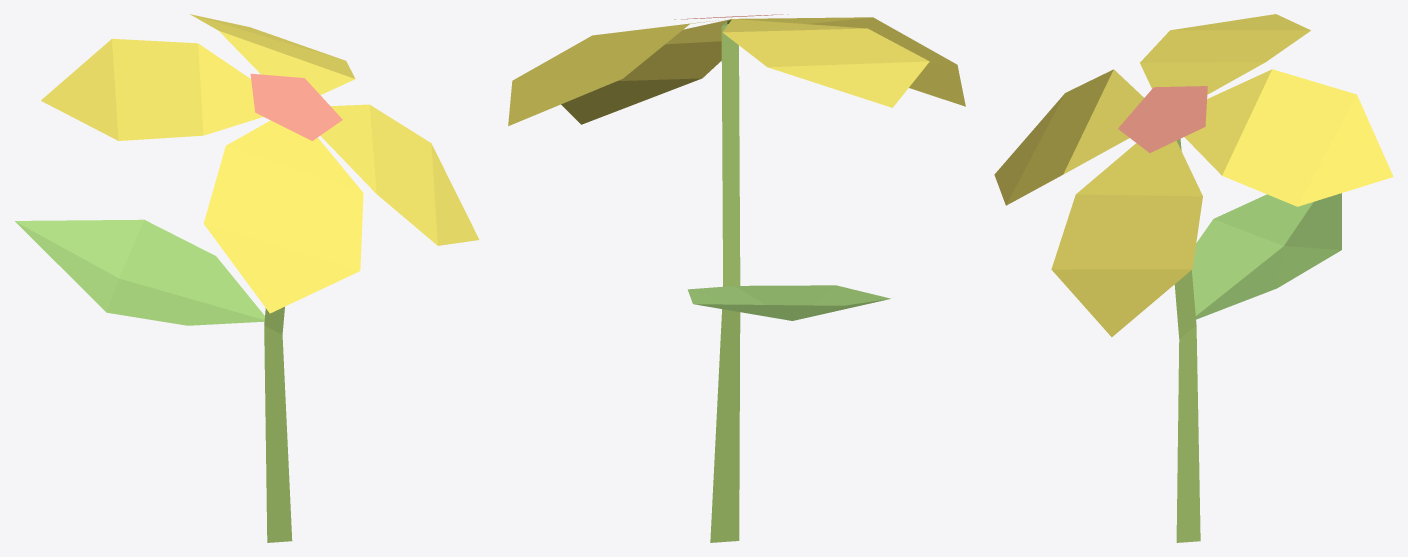
File: Flower_d_OneS_06.fbx
3 renders of one model, left to right at view 1: azimuth 30°, elevation 25°; view 2: azimuth 150°, elevation 25°; view 3: azimuth 270°, elevation 25°, orthographic. The views are drawn at different scales.
Parts seen in each view (by area): view 1: Flower_d_OneS_06; view 2: Flower_d_OneS_06; view 3: Flower_d_OneS_06.
Boxes of the visible parts, x1,y1,x2,y2 form: Flower_d_OneS_06: (15,14,479,542); Flower_d_OneS_06: (508,14,965,542); Flower_d_OneS_06: (994,14,1393,542).
Size of the model in its own units: 0.2195 by 0.2847 by 0.2228.
